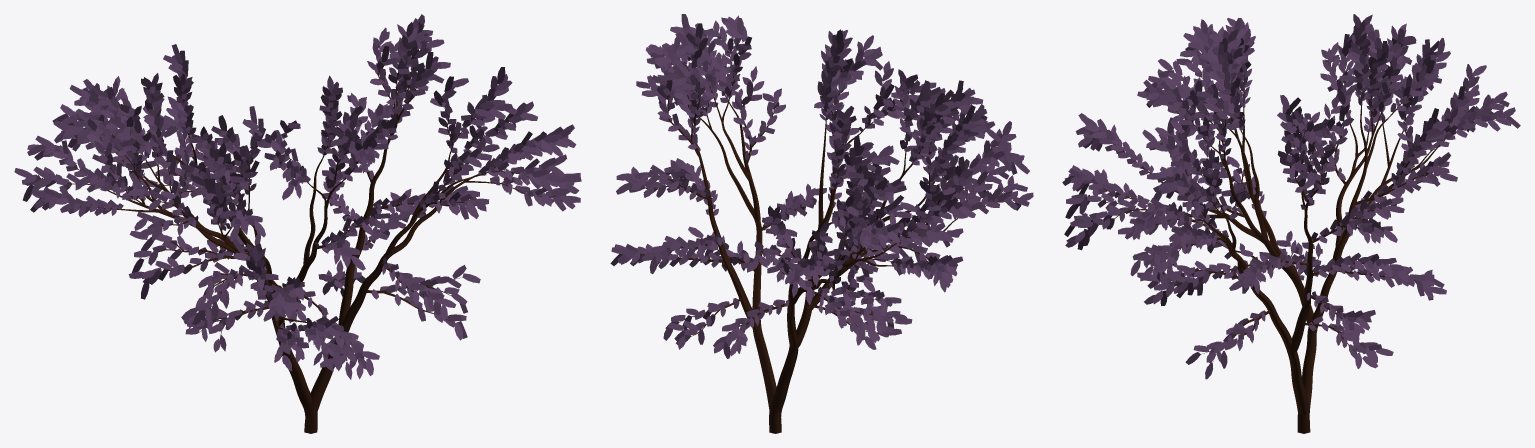
The model's file is purpleTreeSmooth.fbx.
3 renders of one model, left to right at view 1: azimuth 30°, elevation 25°; view 2: azimuth 150°, elevation 25°; view 3: azimuth 270°, elevation 25°, orthographic. The views are drawn at different scales.
Parts seen in each view (by area): view 1: purpleTree; view 2: purpleTree; view 3: purpleTree.
Boxes of the visible parts, x1=… form: purpleTree: x1=14, y1=14, x2=581, y2=433; purpleTree: x1=610, y1=14, x2=1033, y2=433; purpleTree: x1=1062, y1=14, x2=1520, y2=433.
Size of the model in its own units: 591 by 512 by 563.
